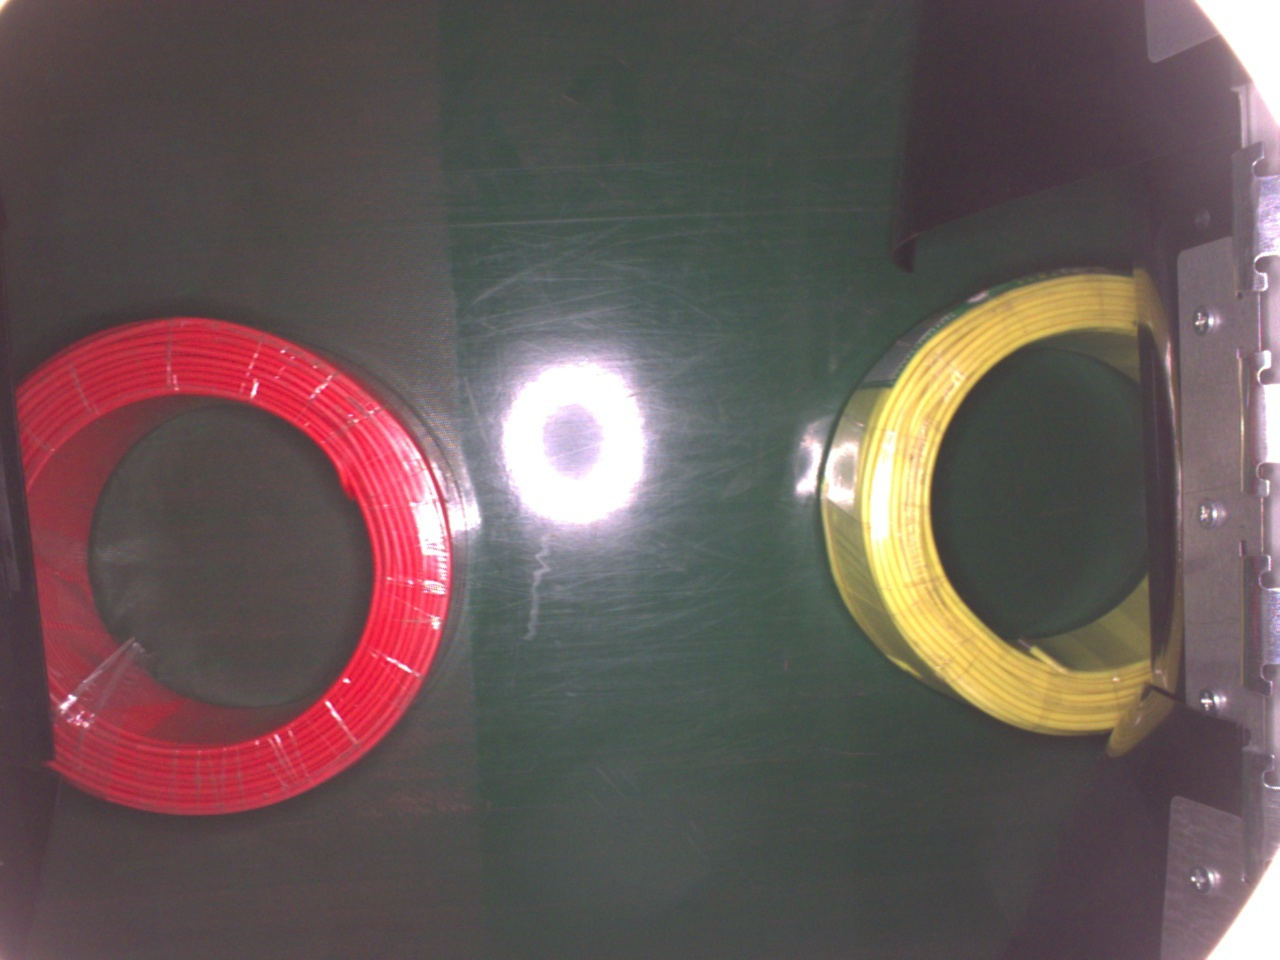red: (15, 316, 465, 820)
yellow: (820, 262, 1155, 740)
